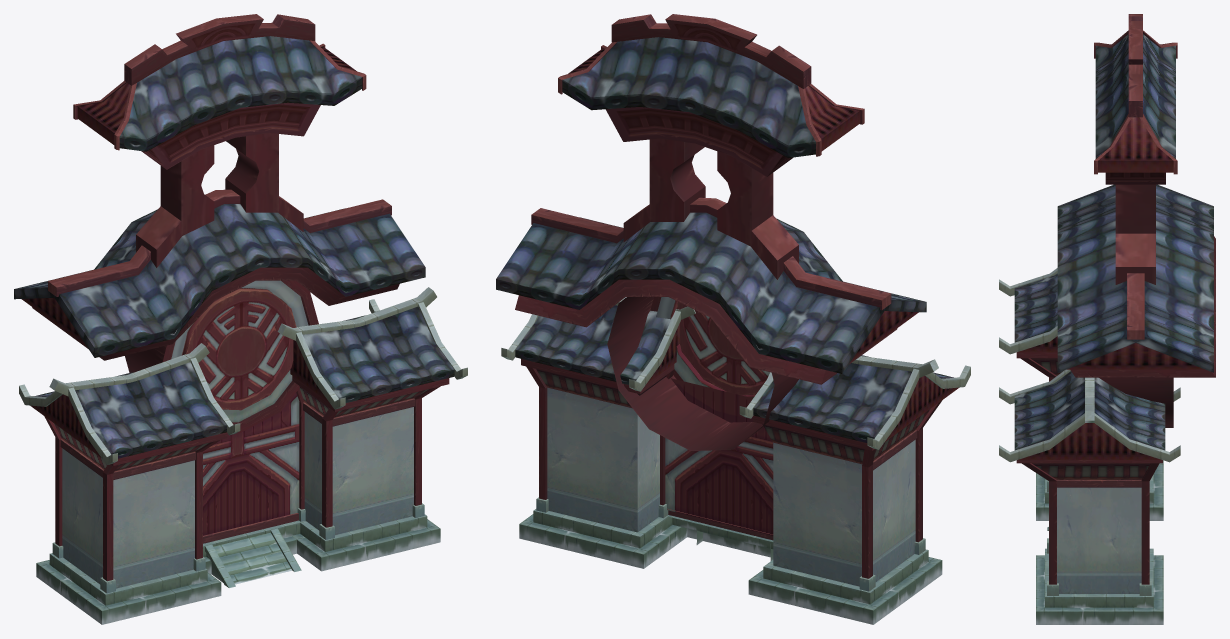
3 renders of one model, left to right at view 1: azimuth 30°, elevation 25°; view 2: azimuth 150°, elevation 25°; view 3: azimuth 270°, elevation 25°, orthographic. The views are drawn at different scales.
Parts seen in each view (by area): view 1: MB0002_07_02; view 2: MB0002_07_02; view 3: MB0002_07_02.
Part boxes in pixels (<box>): MB0002_07_02: <box>14,14,467,624</box>; MB0002_07_02: <box>496,14,970,624</box>; MB0002_07_02: <box>999,14,1215,624</box>.
Size of the model in its own units: 10.02 by 13.12 by 5.06.
